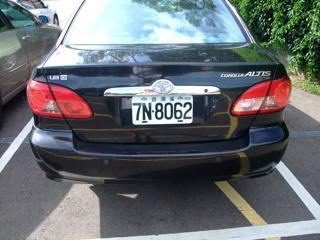plate: (130, 97, 195, 125)
